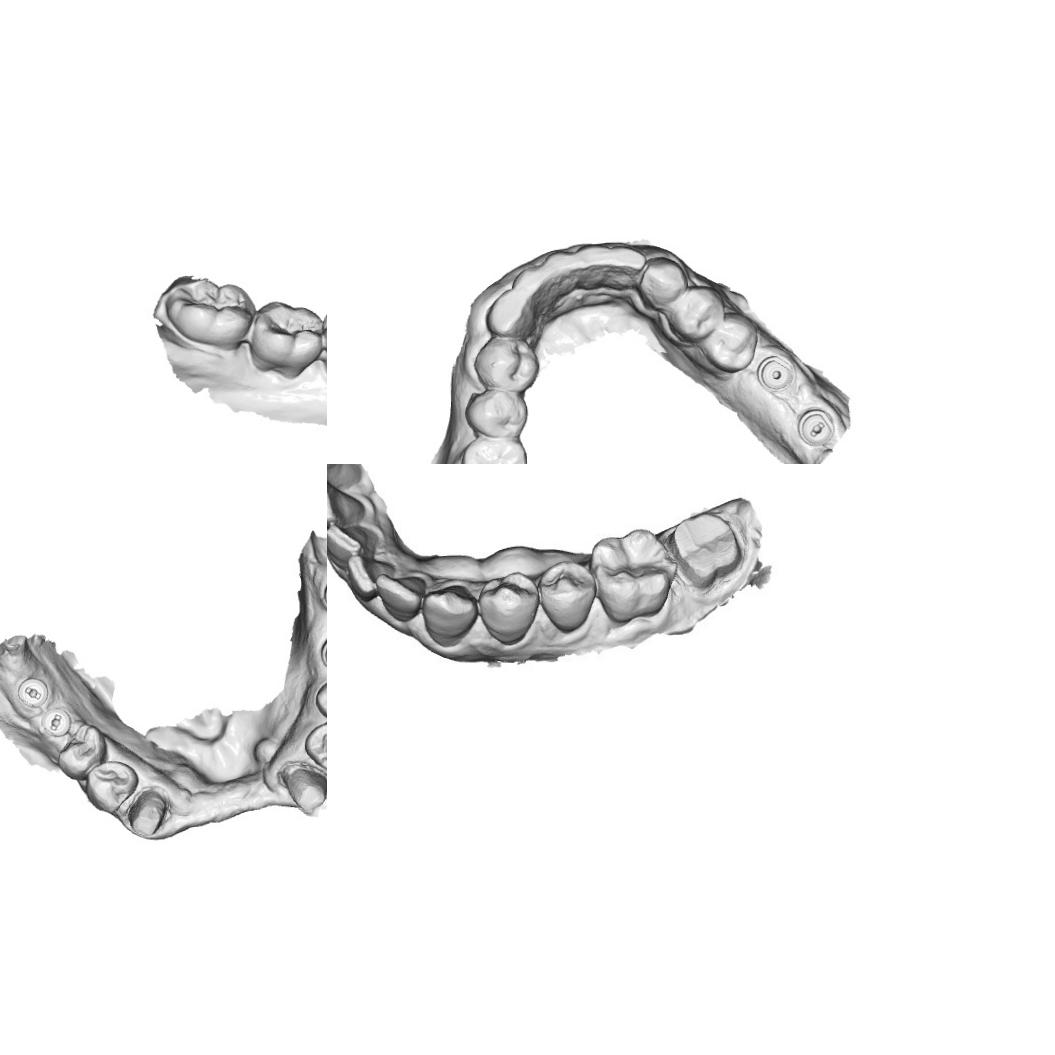canine: (418, 583, 478, 647), (636, 257, 688, 305), (484, 288, 532, 339)
crown: (668, 507, 746, 592), (123, 786, 169, 843), (283, 764, 327, 818)
implant: (754, 350, 798, 397)
implant_minus: (794, 407, 840, 450), (15, 675, 50, 709), (39, 706, 72, 738), (316, 632, 327, 674)
incisor: (377, 572, 427, 626), (346, 554, 392, 604), (327, 481, 367, 529), (608, 242, 647, 291), (327, 523, 372, 564), (512, 262, 549, 310), (576, 242, 610, 290), (548, 250, 576, 296)
molar: (590, 530, 675, 626), (158, 267, 254, 350), (253, 294, 325, 384), (458, 438, 529, 464)
premolar: (475, 569, 538, 646), (537, 557, 596, 636), (472, 335, 540, 389), (702, 311, 759, 373), (464, 388, 530, 441), (670, 285, 724, 346), (83, 758, 140, 814), (56, 722, 109, 781), (302, 720, 327, 774), (311, 675, 327, 726)
